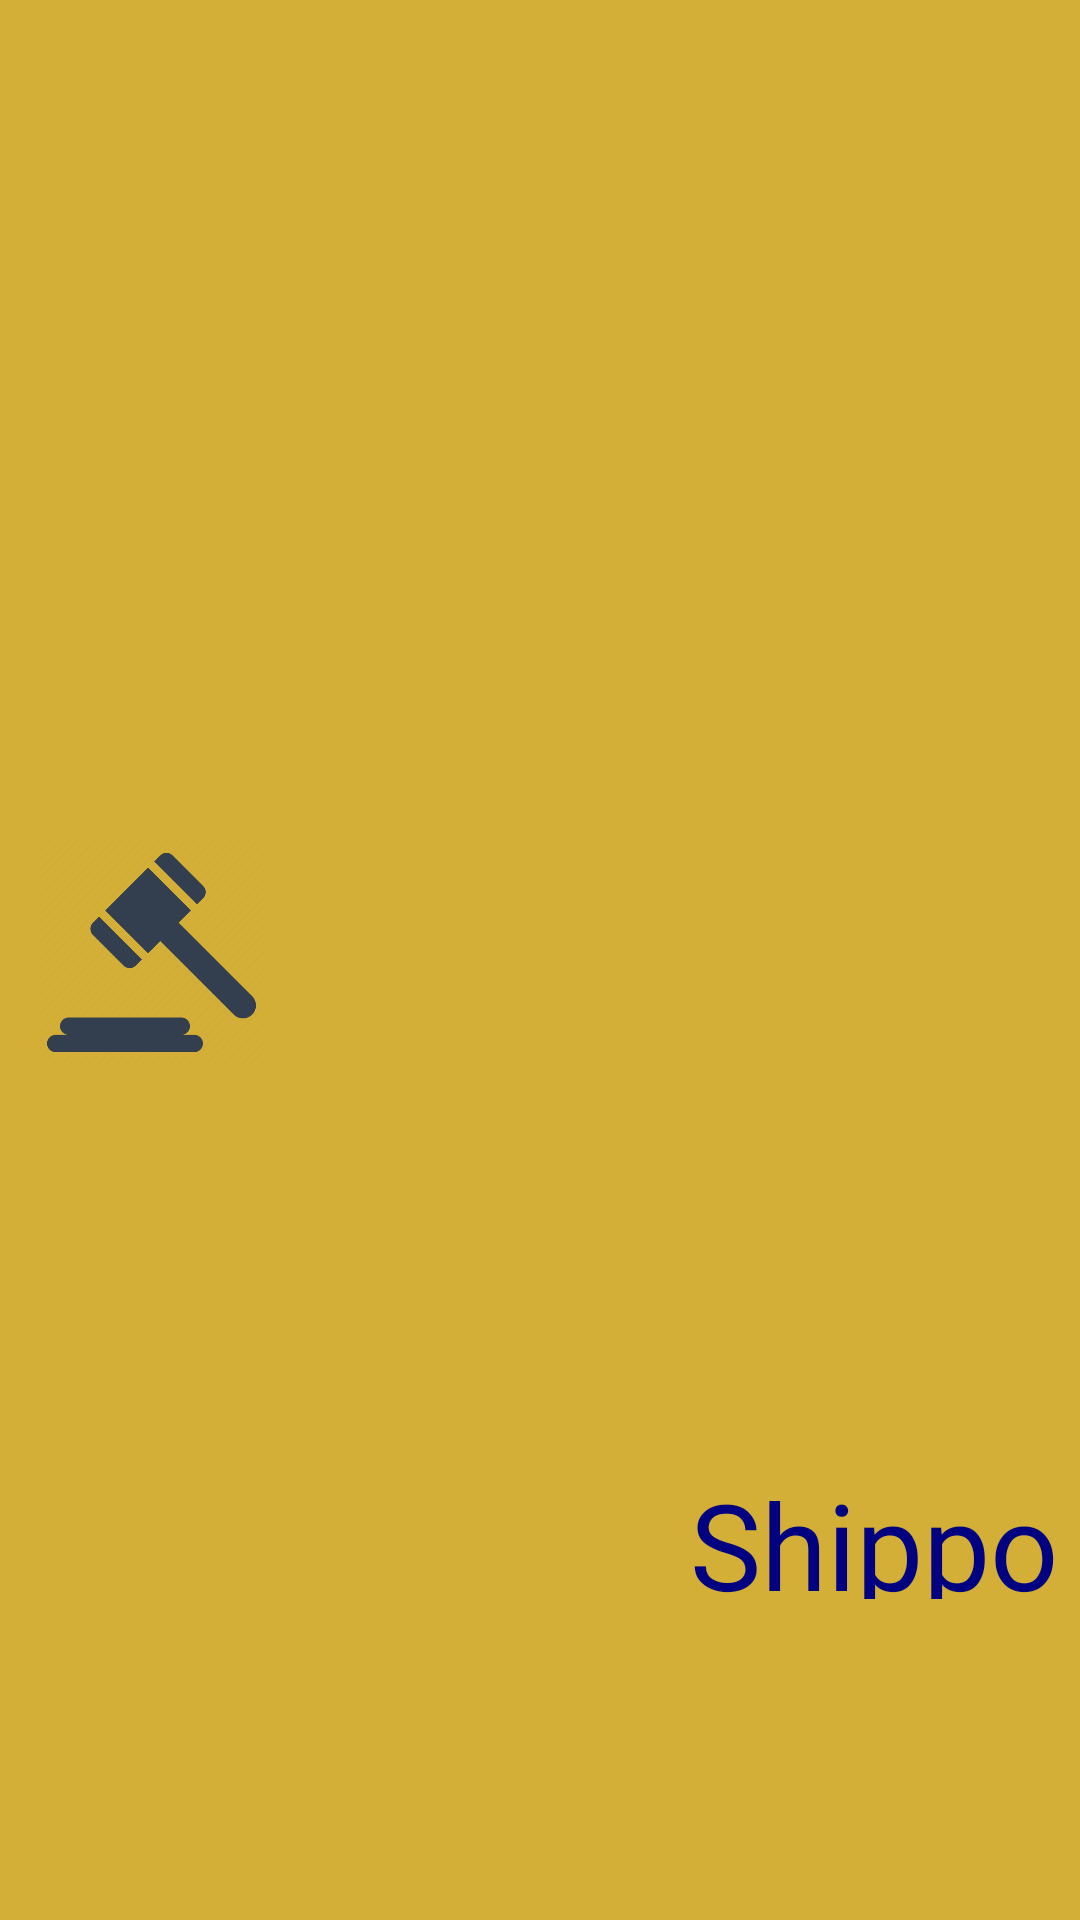

Icons on this 1080x1920 Android screen, each with its box as (left=x1, top=y1, right=x2, bottom=y2):
hammer: (left=47, top=853, right=256, bottom=1052)
